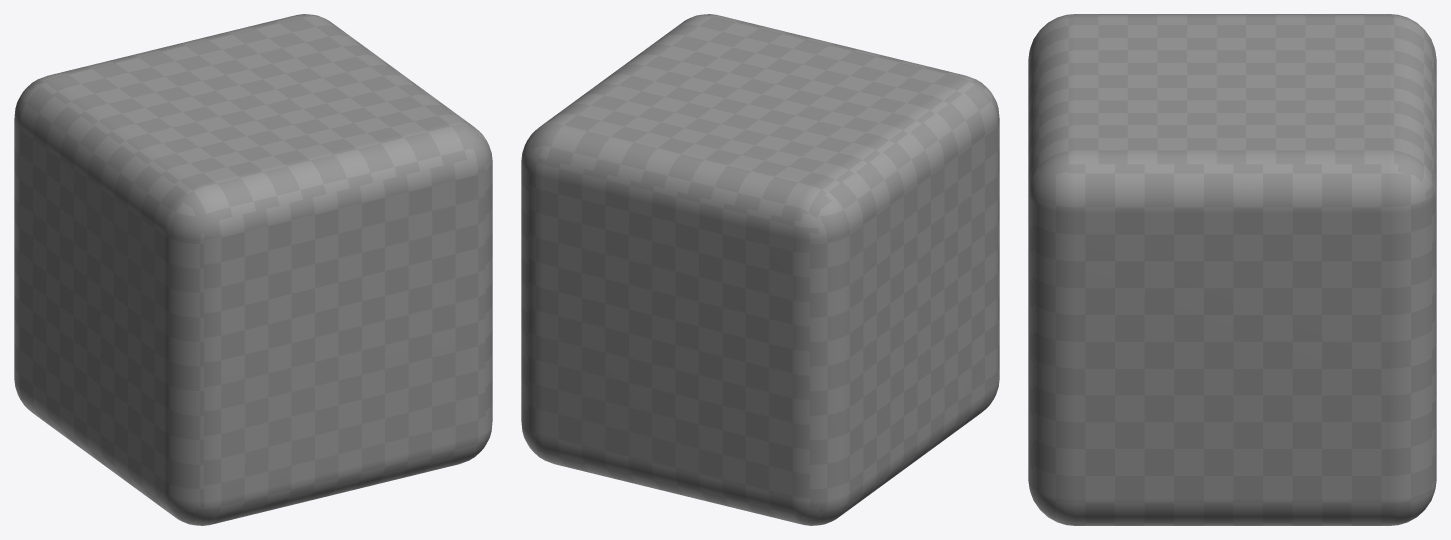
The model's file is TrainingCube.fbx.
The picture shows the model from 3 angles, left to right: view 1: azimuth 30°, elevation 25°; view 2: azimuth 150°, elevation 25°; view 3: azimuth 270°, elevation 25°; orthographic projection. The views are drawn at different scales.
Parts seen in each view (by area): view 1: pCube1; view 2: pCube1; view 3: pCube1.
Part boxes in pixels (x1=…): pCube1: x1=14, y1=14, x2=492, y2=525; pCube1: x1=521, y1=14, x2=999, y2=525; pCube1: x1=1028, y1=14, x2=1436, y2=525.
Size of the model in its own units: 19.27 by 19.27 by 19.27.
1 material, 1 textured.
